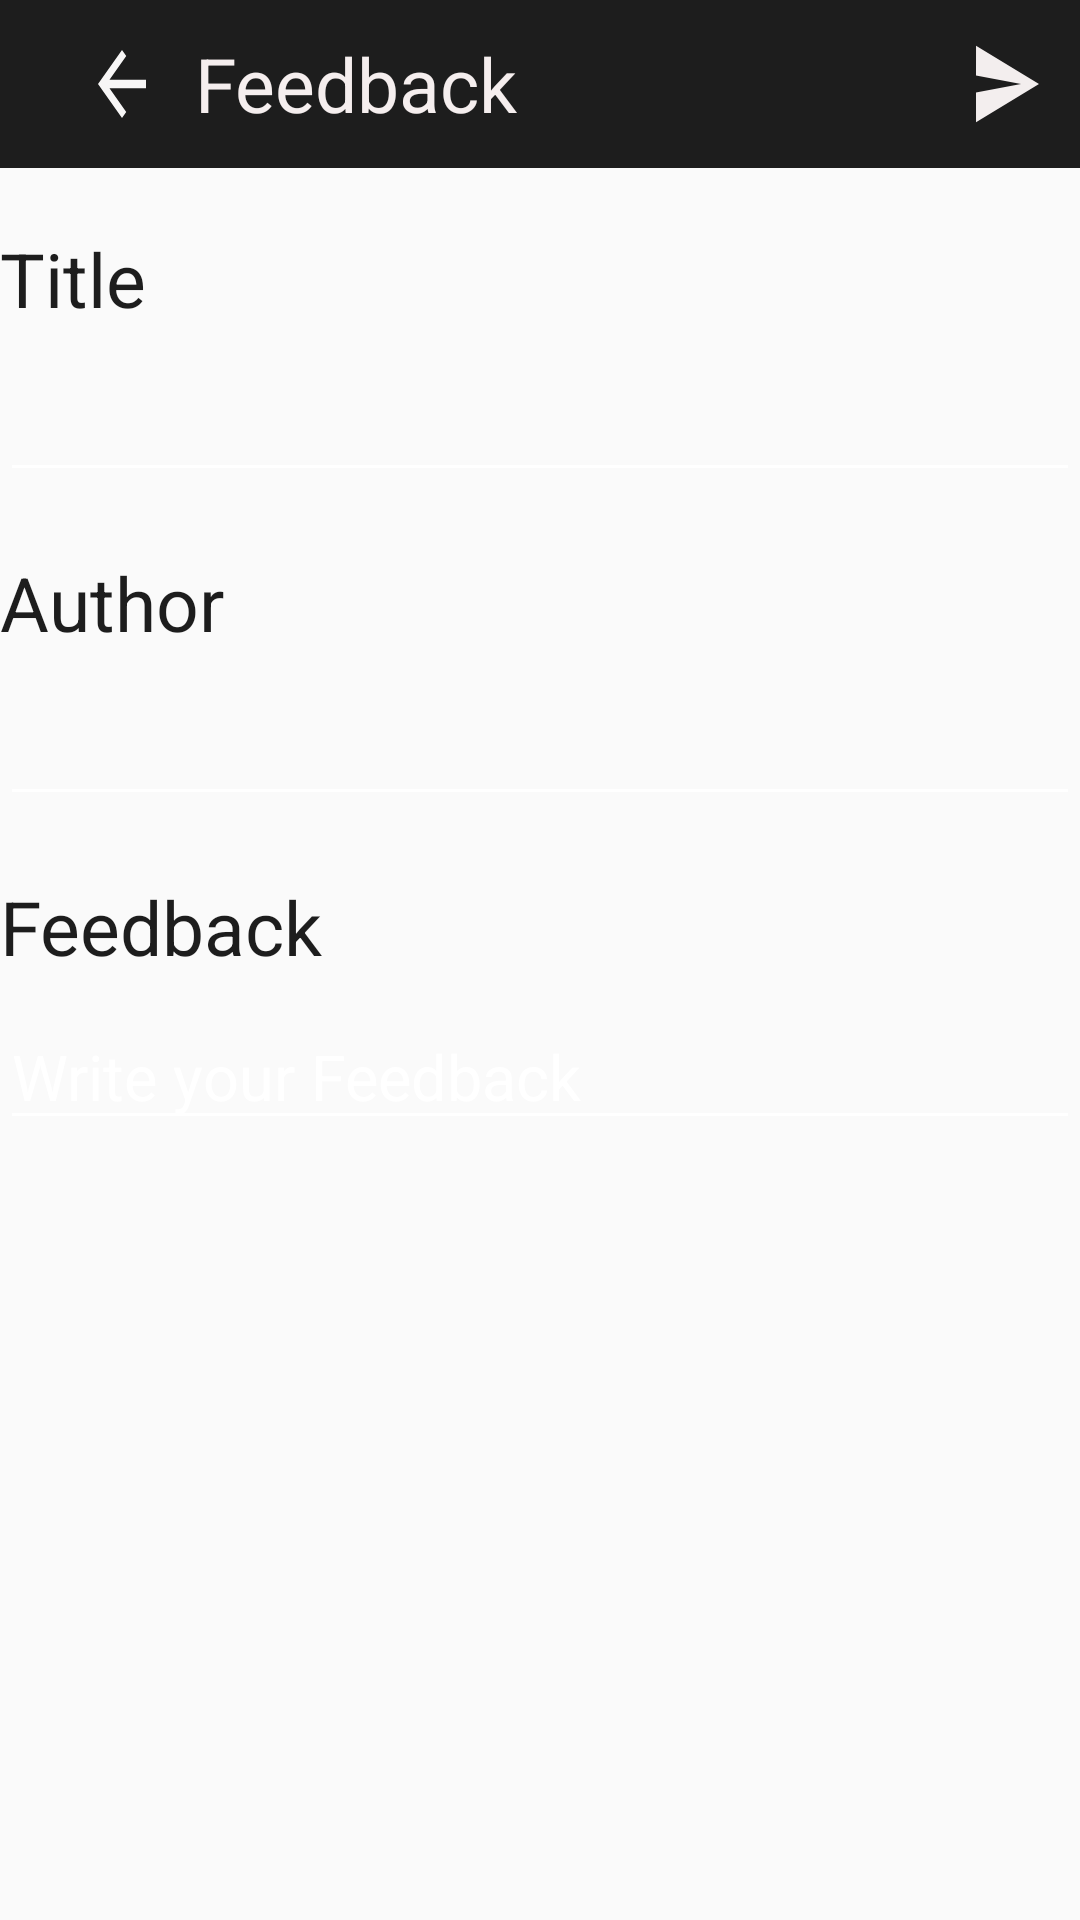

Icons on this 1080*1920 Android screen, each with its box as detection(x1, y1, x2, y2):
arrow back: detection(98, 50, 146, 118)
send: detection(976, 46, 1039, 122)
